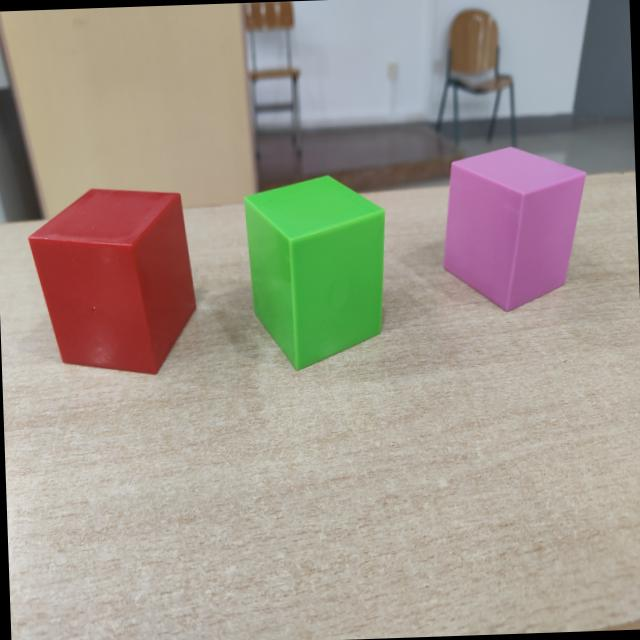green: (243, 175, 386, 371)
pink: (442, 147, 586, 313)
red: (28, 189, 197, 376)
